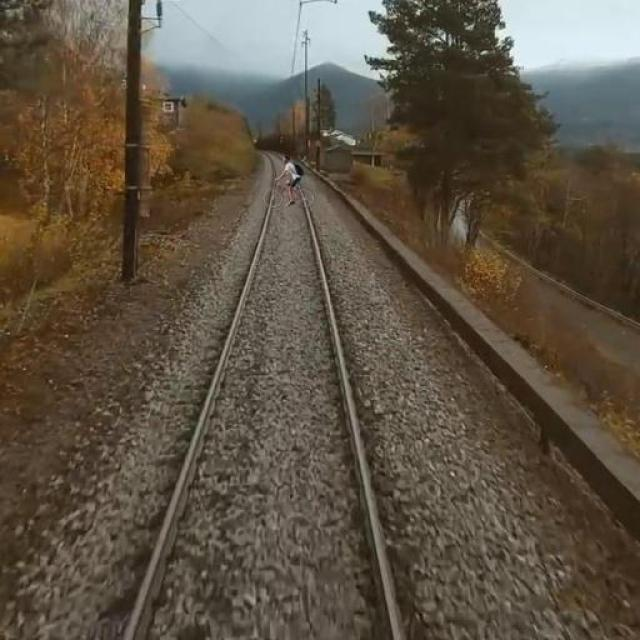people: (276, 156, 308, 204)
